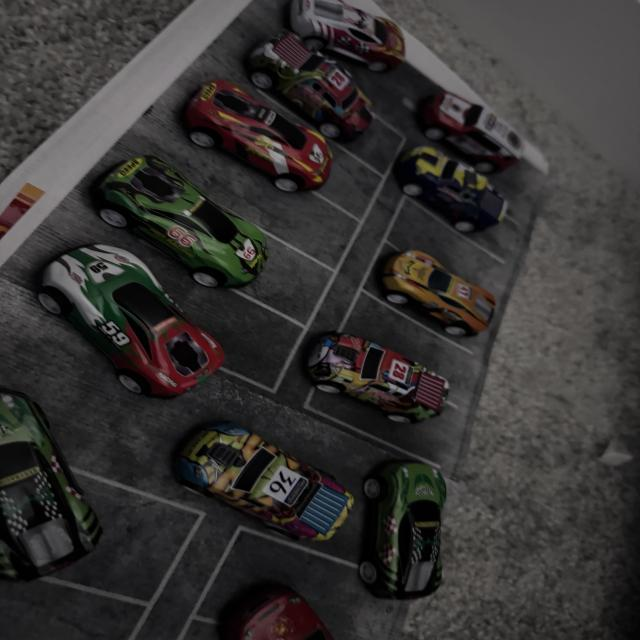Car: (53, 145, 290, 276), (45, 242, 249, 388), (334, 230, 554, 348), (0, 414, 133, 590), (231, 26, 402, 154), (342, 445, 462, 627), (375, 138, 563, 254), (158, 90, 348, 201), (284, 322, 482, 428), (172, 414, 345, 522), (278, 0, 411, 81), (204, 581, 366, 640), (414, 62, 530, 144)
